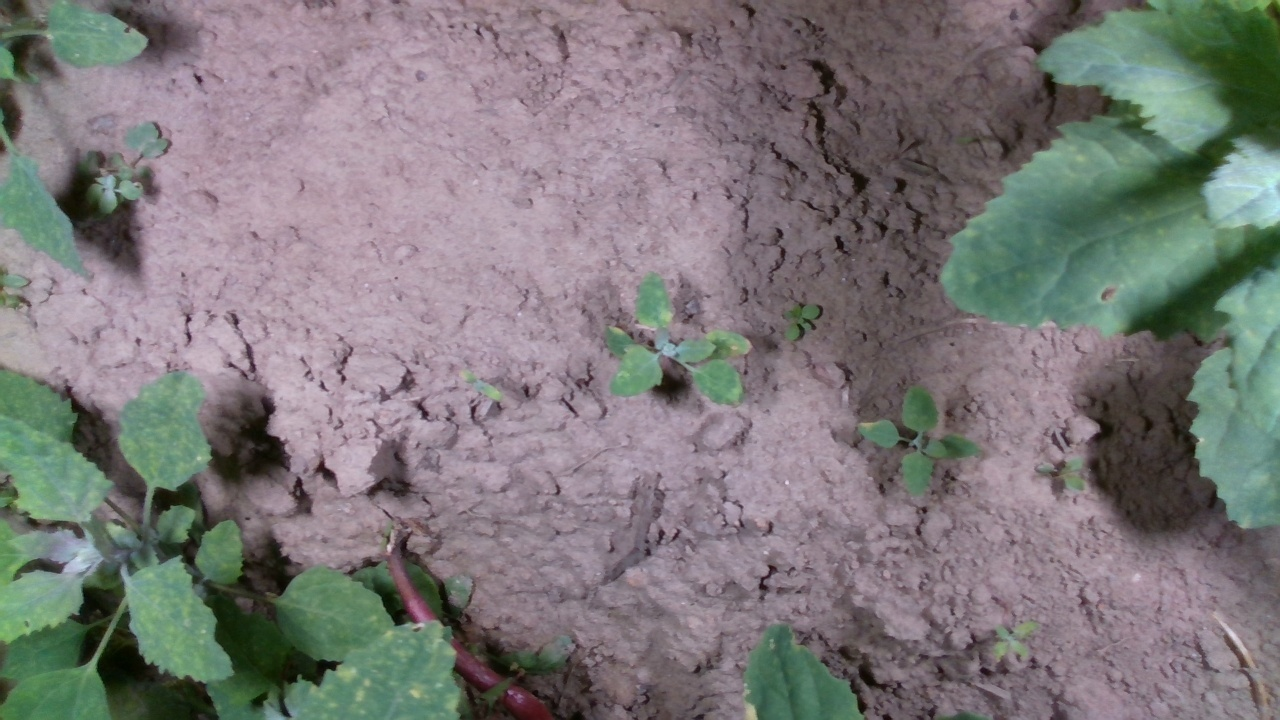weed: (779, 298, 815, 346)
